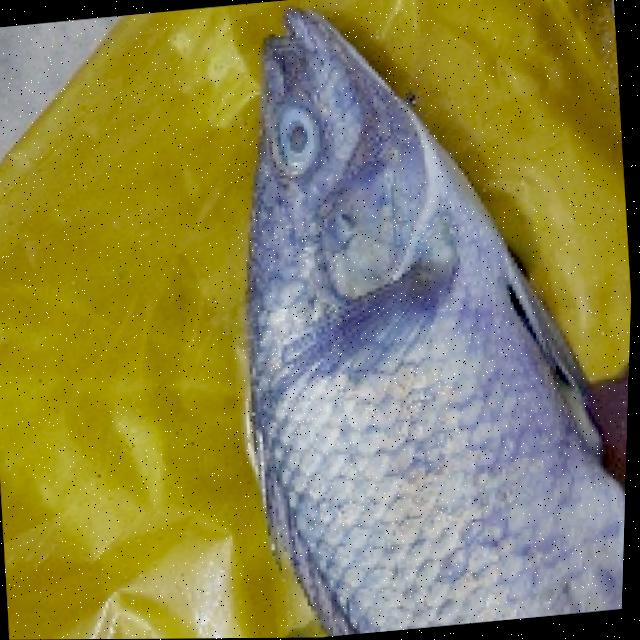Non-Fresh: (171, 0, 625, 587), (252, 87, 348, 190)
